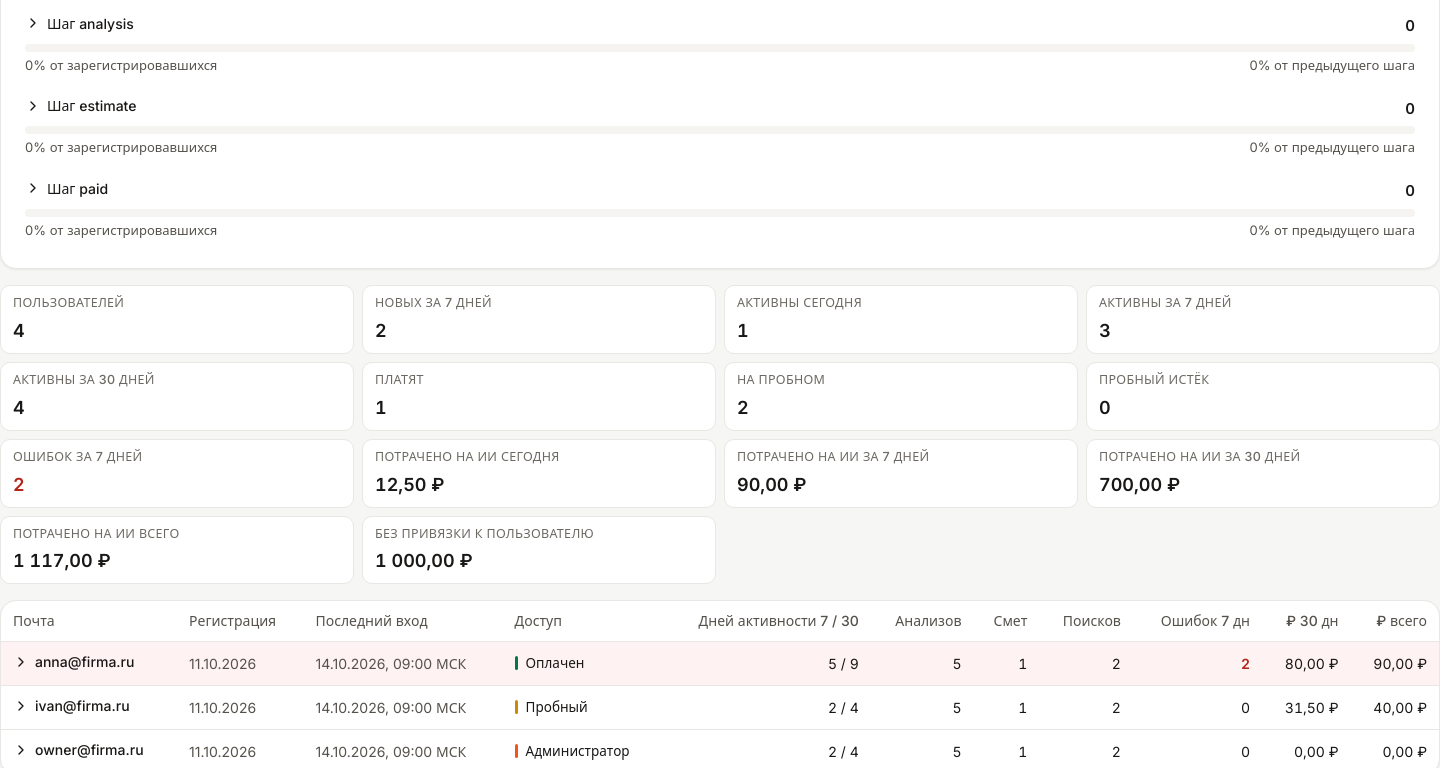
страница «Пользователи» › клик по строке раскрывает журнал: действия, результат, ссылка на закупку; ошибки выделены
(page scrolled)
Click the button with aria-label "Журнал anna@firma.ru": (74, 662) x1=13 y1=652 x2=134 y2=672
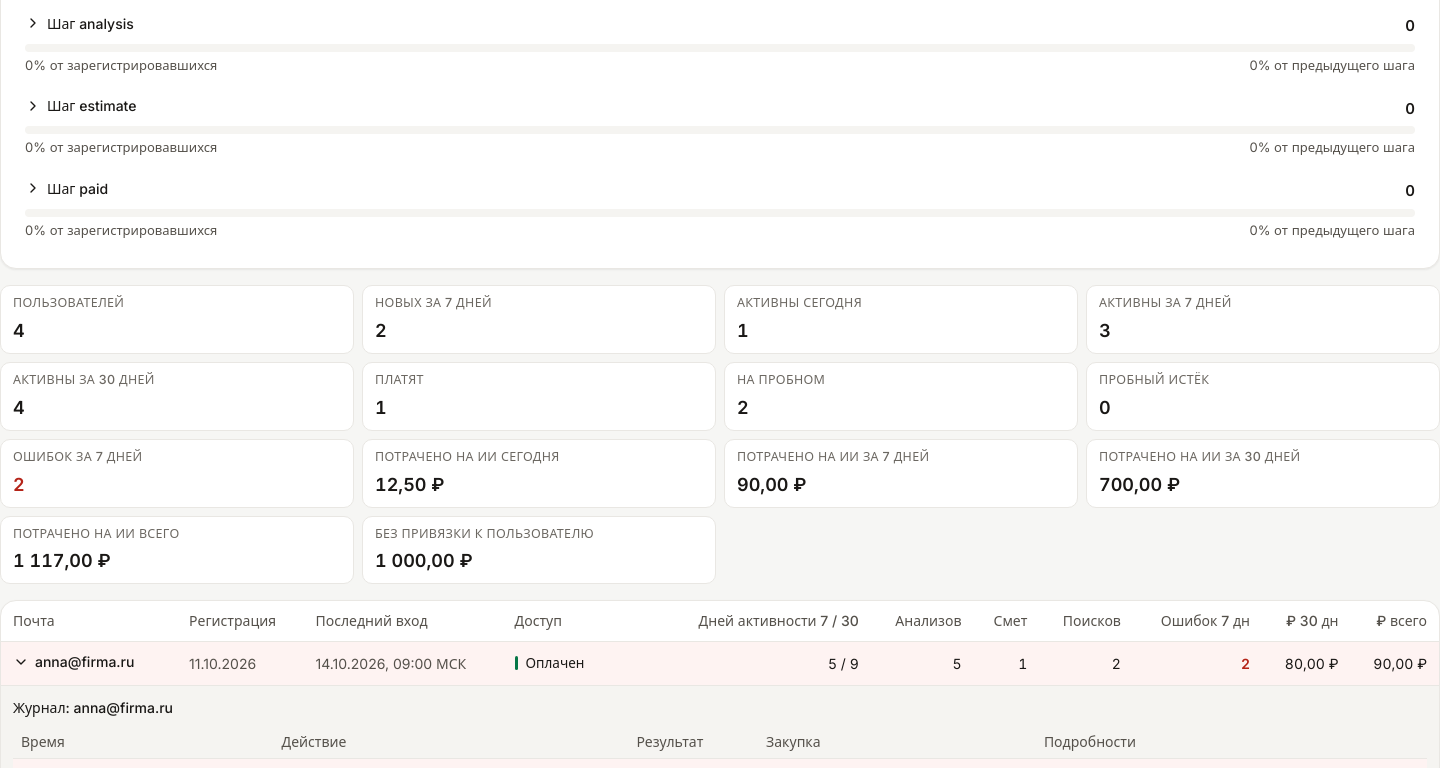
Expected: the text "Журнал: anna@firma.ru" is shown, x1=13 y1=699 x2=173 y2=716
# Повторный клик сворачивает журнал.
Click the button with aria-label "Журнал anna@firma.ru": (74, 662) x1=13 y1=652 x2=134 y2=672
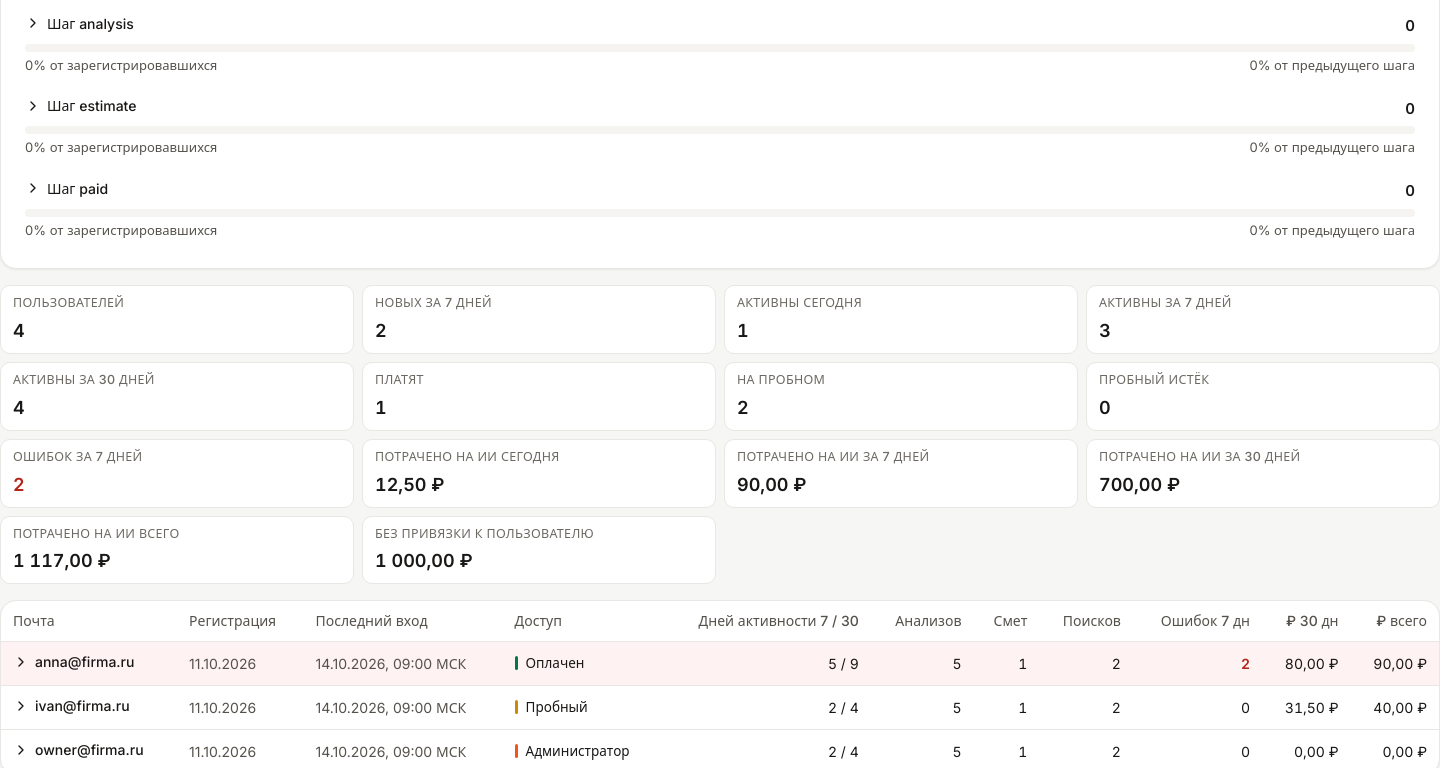
Expected: the text "Журнал: anna@firma.ru" is gone
